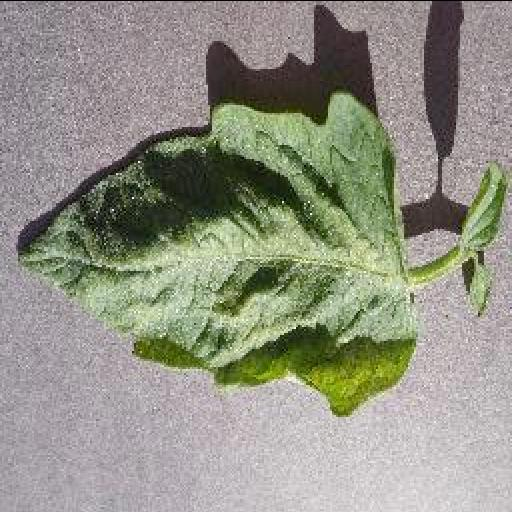disease_tomato: (14, 92, 424, 416)
